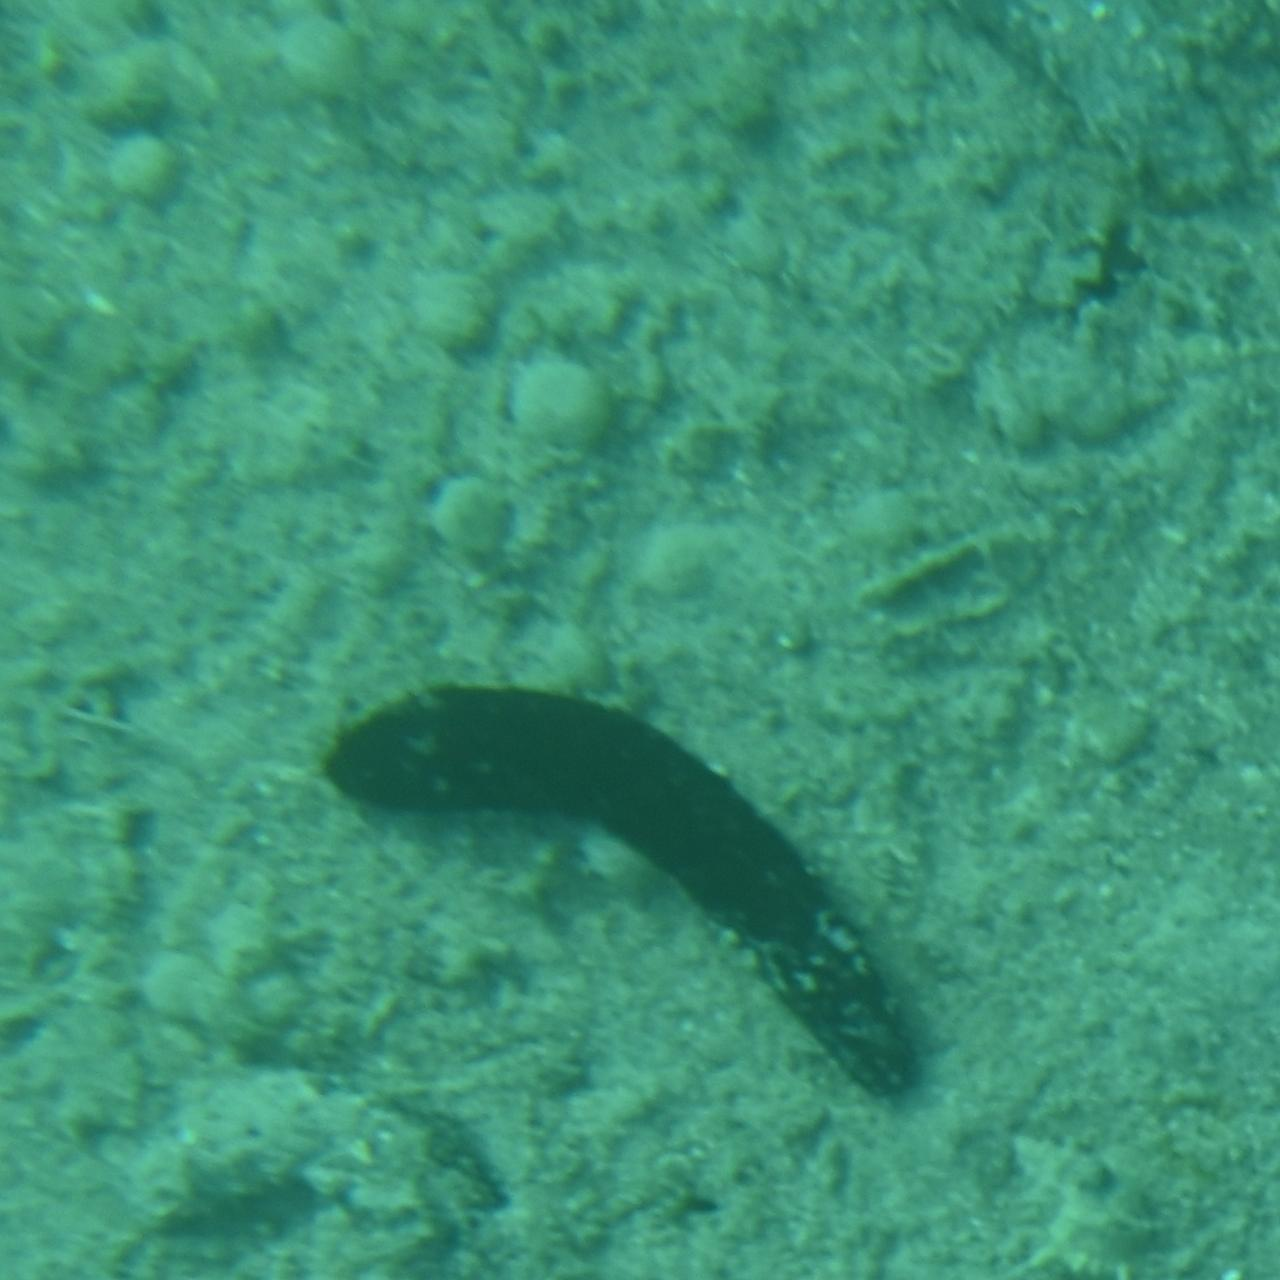Holothuria tubulosa: (319, 686, 947, 1118), (688, 0, 1268, 232), (107, 1065, 499, 1280)
